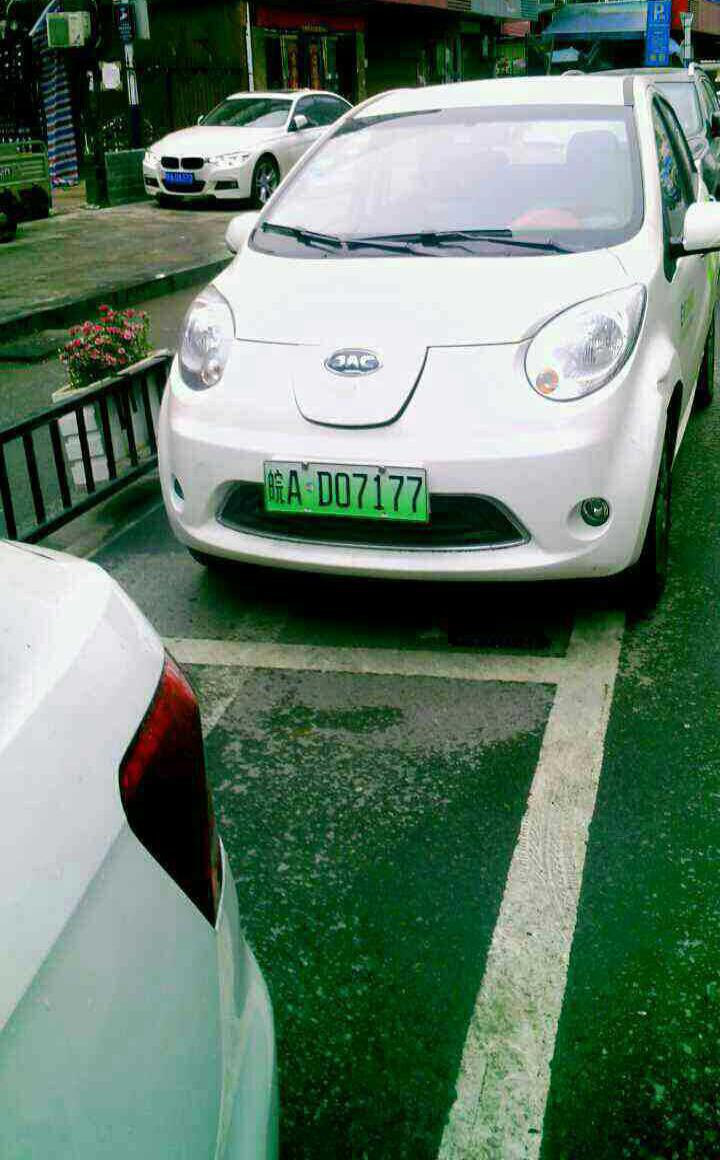car_id: (263, 461, 428, 520)
